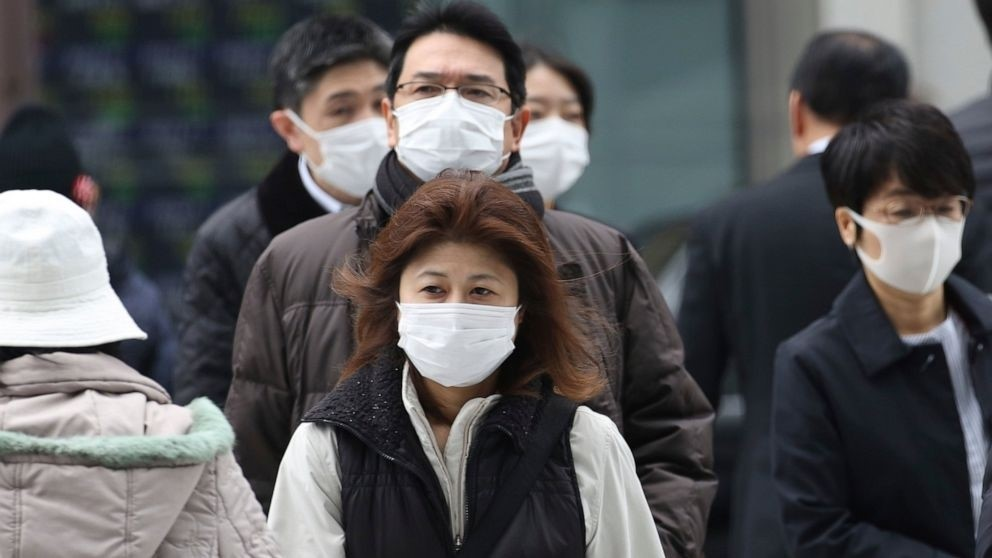face_with_mask: (388, 171, 539, 393), (825, 98, 977, 294), (269, 7, 405, 196), (388, 0, 526, 182), (516, 47, 596, 200)
